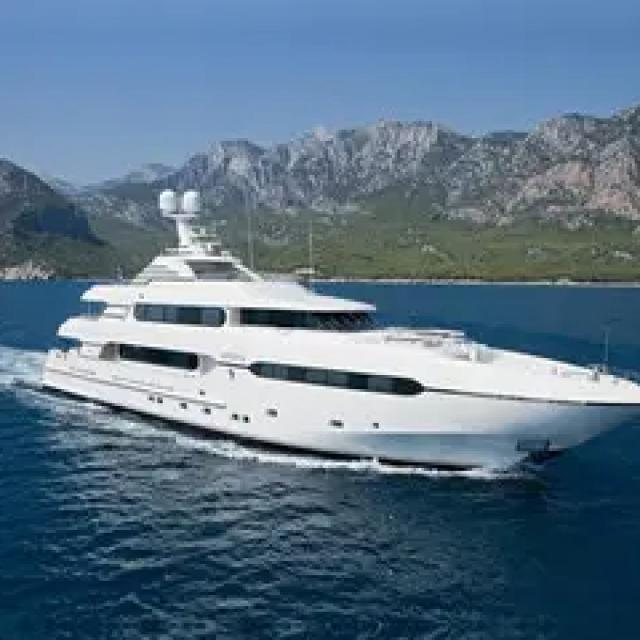houseboat: (40, 174, 640, 496)
